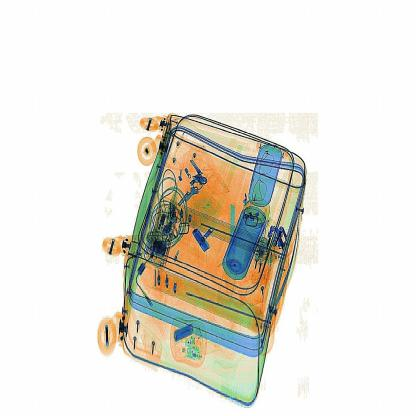pliers: (223, 197, 242, 270)
